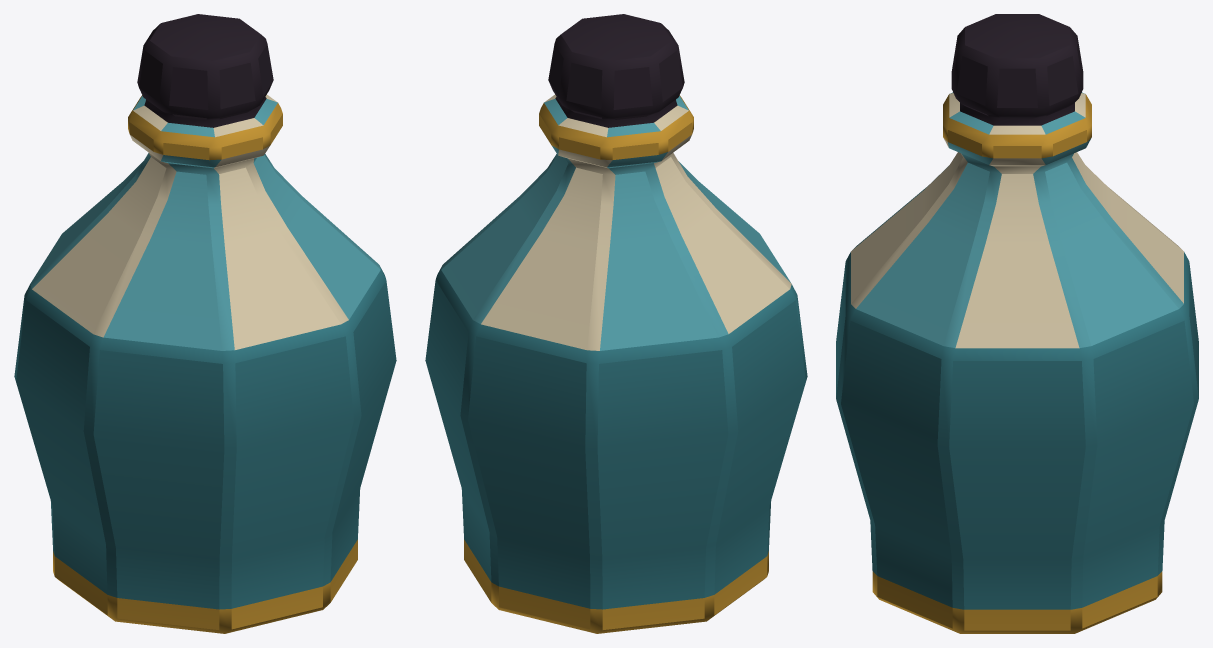
File: Bottle_18.glb
3 renders of one model, left to right at view 1: azimuth 30°, elevation 25°; view 2: azimuth 150°, elevation 25°; view 3: azimuth 270°, elevation 25°, orthographic.
Parts seen in each view (by area): view 1: Bottle_18; view 2: Bottle_18; view 3: Bottle_18.
Part boxes in pixels (x1,y1,x2,y2): Bottle_18: (14,14,396,633); Bottle_18: (425,14,807,633); Bottle_18: (836,14,1198,633).
Size of the model in its own units: 1.34 by 2.23 by 1.34.
